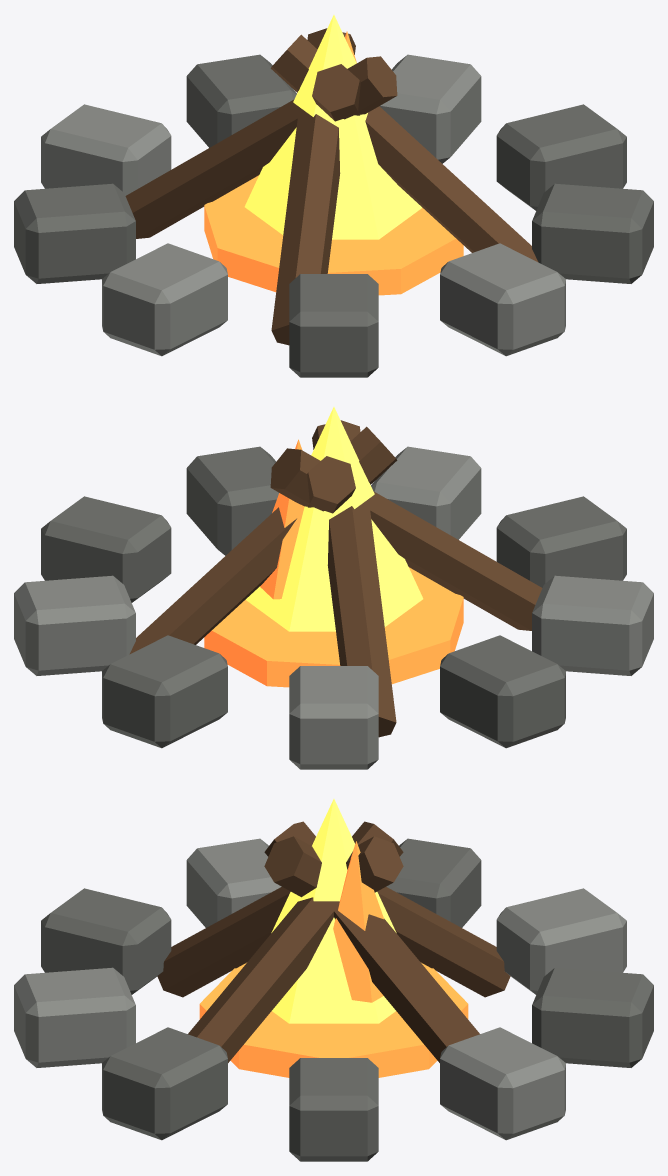
Rendered from campfire.glb.
3 views of the same model, one above another, from view 1: azimuth 30°, elevation 25°; view 2: azimuth 150°, elevation 25°; view 3: azimuth 270°, elevation 25° (orthographic).
Visible parts, largest first — view 1: campfire; view 2: campfire; view 3: campfire.
Boxes of the visible parts, x1,y1,x2,y2 form: campfire: (14,15,653,377); campfire: (14,407,653,769); campfire: (14,799,653,1161).
Bounding box in the file's own units: 1.13 × 0.4972 × 1.14.
